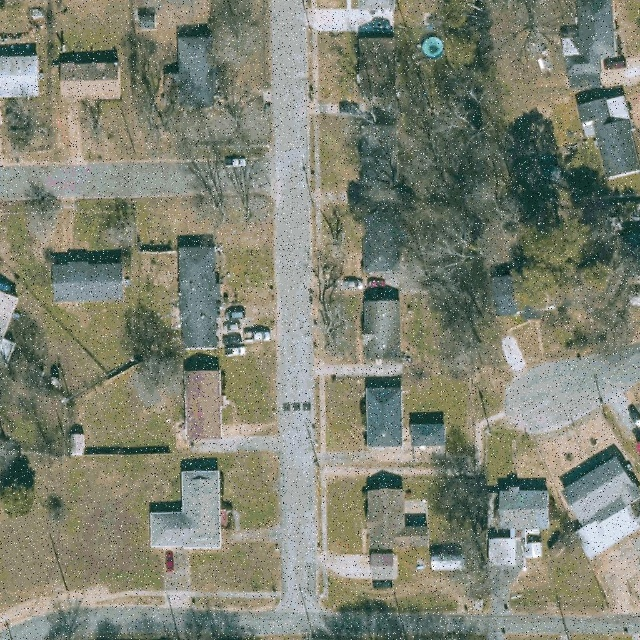vegetation: (396, 0, 633, 352)
